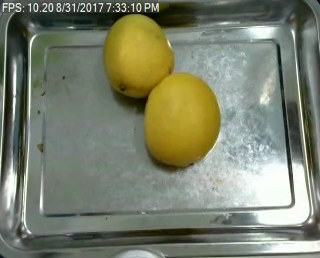Mango: (143, 72, 221, 166), (103, 14, 173, 97)
